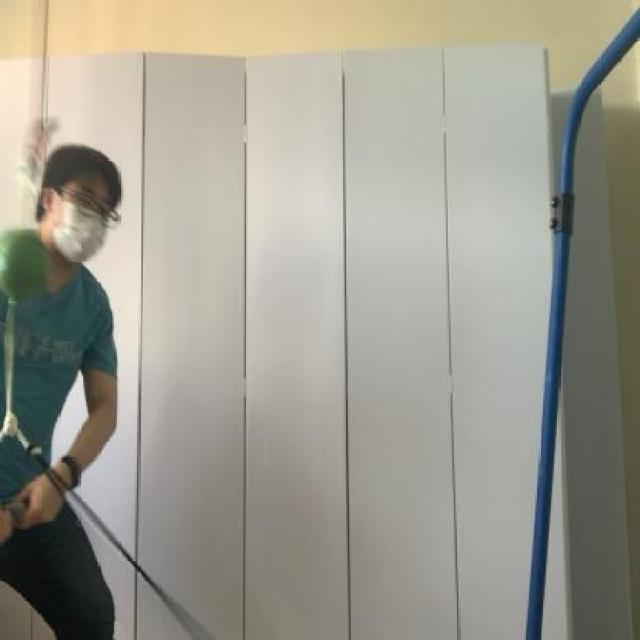baseball: (0, 217, 49, 301)
